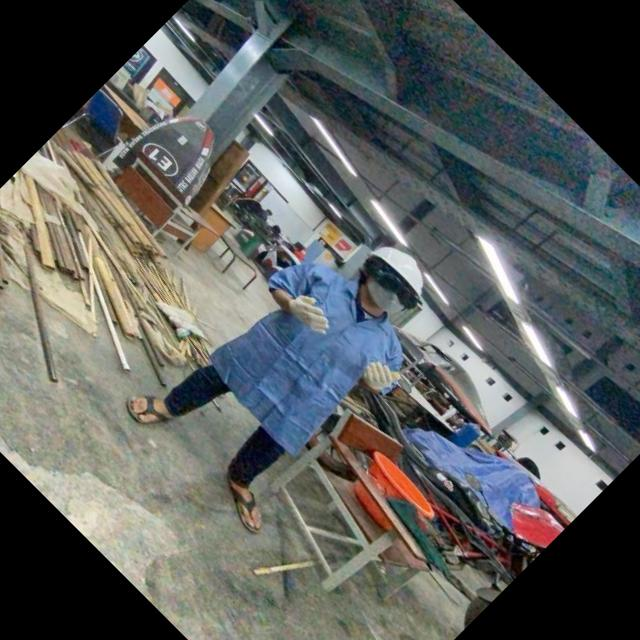hard_hat: (365, 228, 441, 304)
vehicle: (137, 206, 474, 544)
